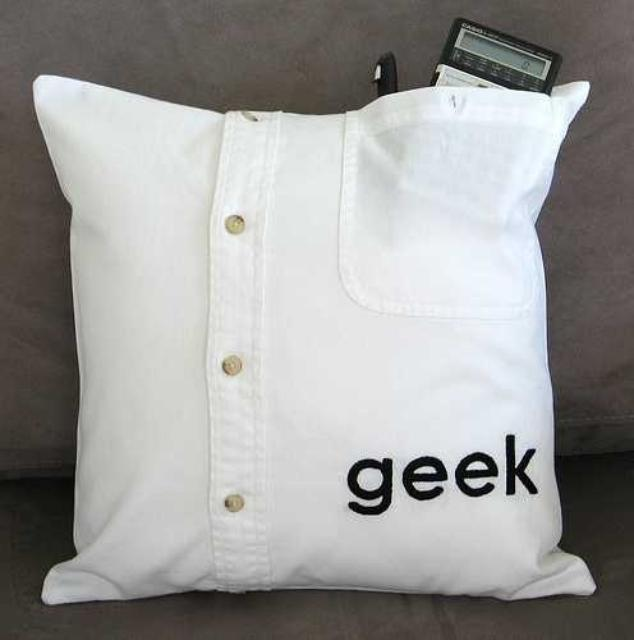pillow: (33, 70, 598, 606)
